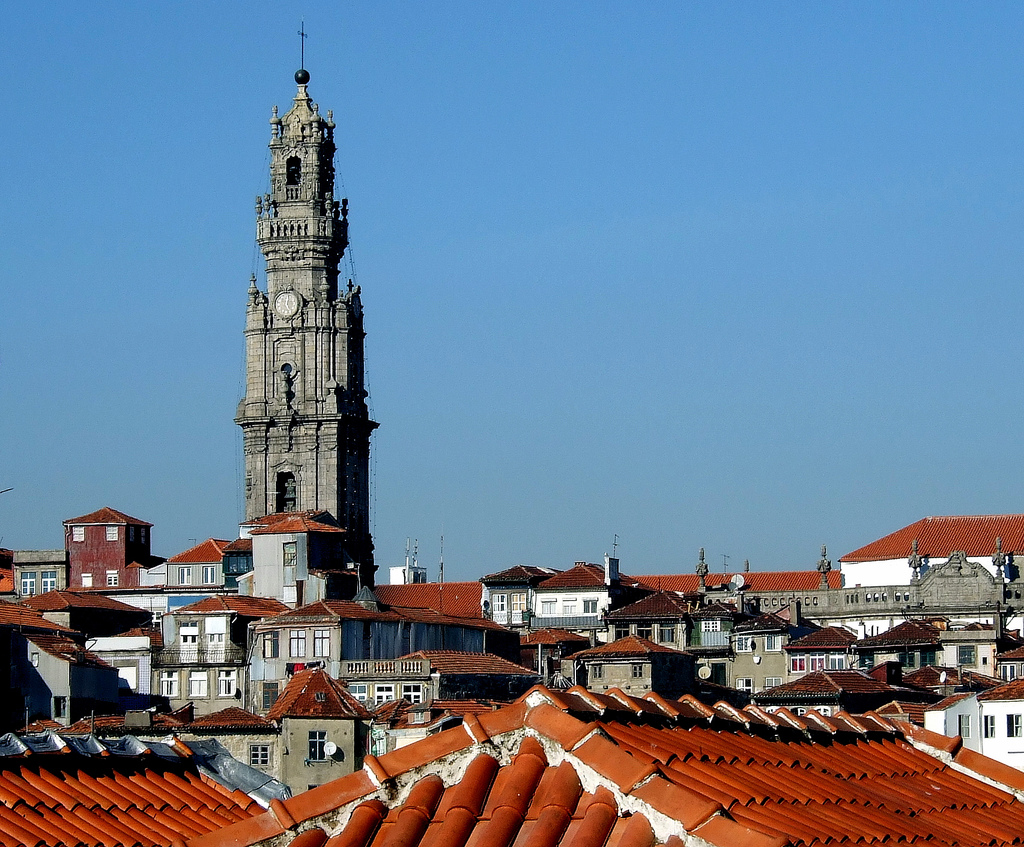clerigos: (233, 15, 381, 584)
